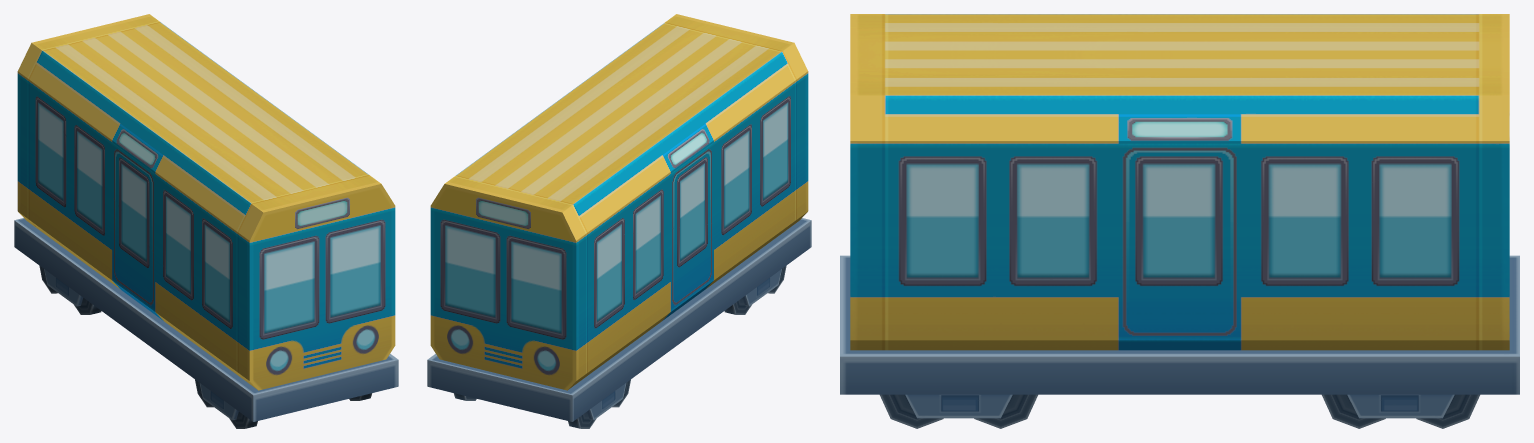
The model's file is Train04.FBX.
3 renders of one model, left to right at view 1: azimuth 30°, elevation 25°; view 2: azimuth 150°, elevation 25°; view 3: azimuth 270°, elevation 25°, orthographic. The views are drawn at different scales.
Parts seen in each view (by area): view 1: Train04, Wheel; view 2: Train04, Wheel; view 3: Train04, Wheel.
Part boxes in pixels (x1,y1,x2,y2): Train04: (17, 14, 395, 390); Wheel: (14, 218, 398, 428); Train04: (430, 14, 808, 390); Wheel: (427, 218, 811, 428); Train04: (850, 14, 1509, 350); Wheel: (840, 255, 1519, 428).
Bounding box in the file's own units: 200 × 306 × 570.
